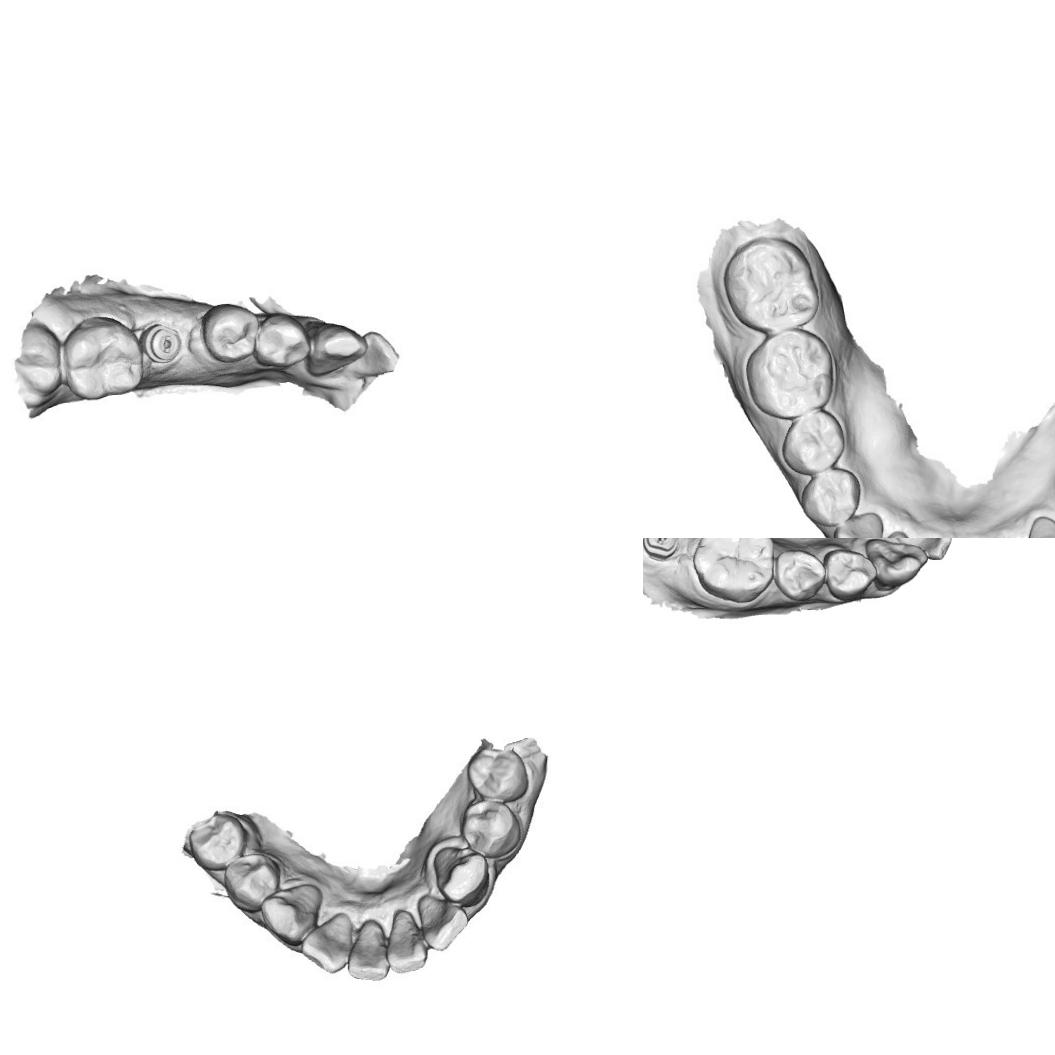canine: (259, 883, 326, 945), (432, 846, 495, 907), (863, 538, 929, 590), (306, 322, 368, 377), (834, 511, 884, 538), (1027, 514, 1055, 538)
implant_minus: (142, 323, 182, 365), (643, 538, 679, 560)
incisor: (298, 914, 356, 977), (384, 911, 435, 978), (419, 896, 469, 954), (344, 919, 390, 982), (342, 329, 398, 380), (892, 538, 956, 562)
molar: (720, 235, 820, 333), (750, 319, 834, 418), (58, 313, 146, 403), (690, 538, 776, 605)
premolar: (185, 806, 250, 872), (782, 410, 846, 473), (800, 466, 864, 526), (463, 744, 528, 803), (198, 302, 258, 365), (460, 798, 522, 858), (252, 311, 312, 370), (226, 852, 284, 909), (824, 546, 878, 602), (774, 548, 826, 602)
